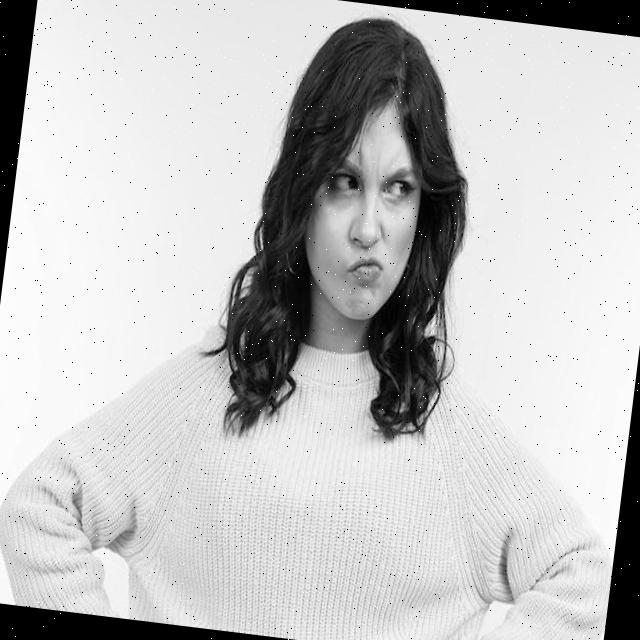Angry: (294, 98, 430, 324)
